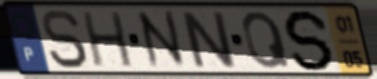H: (79, 9, 137, 69)
N: (177, 10, 240, 71), (133, 8, 191, 72)
Q: (240, 9, 294, 71)
S: (282, 8, 337, 73), (39, 8, 90, 71)
